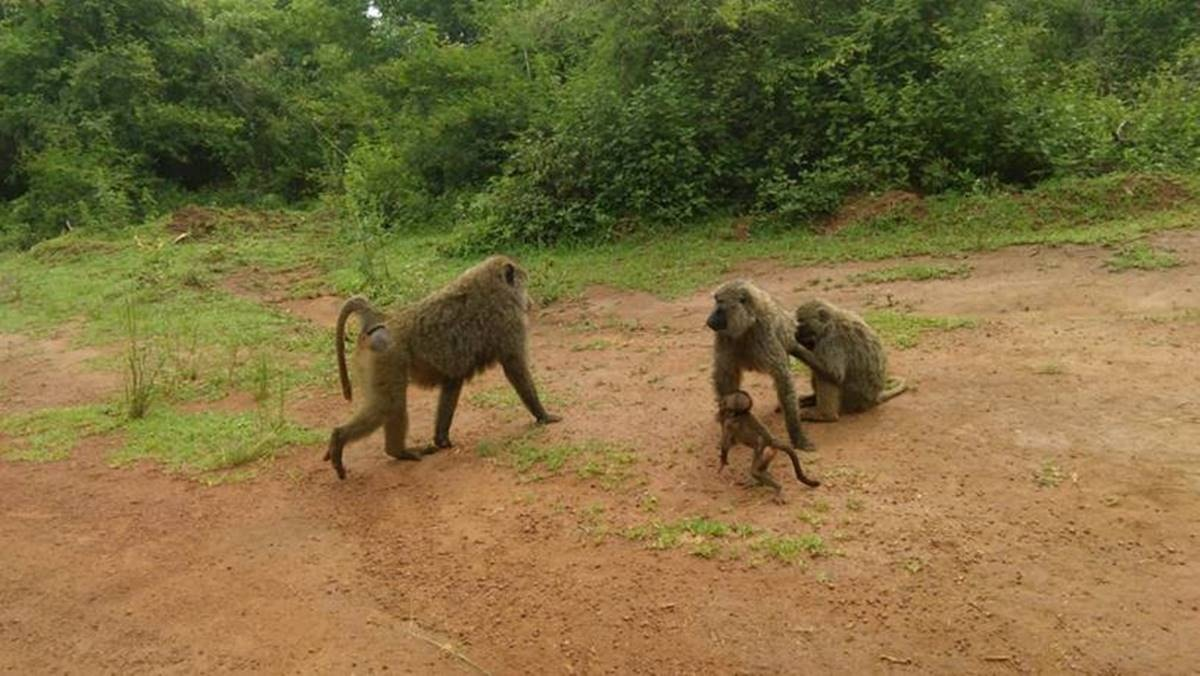monkey: (311, 245, 566, 486), (700, 274, 823, 456), (785, 296, 913, 428), (712, 388, 820, 509)
